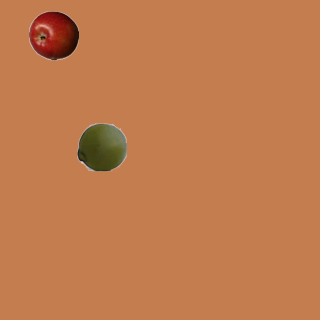Apple Braeburn: (28, 10, 78, 60)
Grape White 4: (76, 121, 126, 171)
